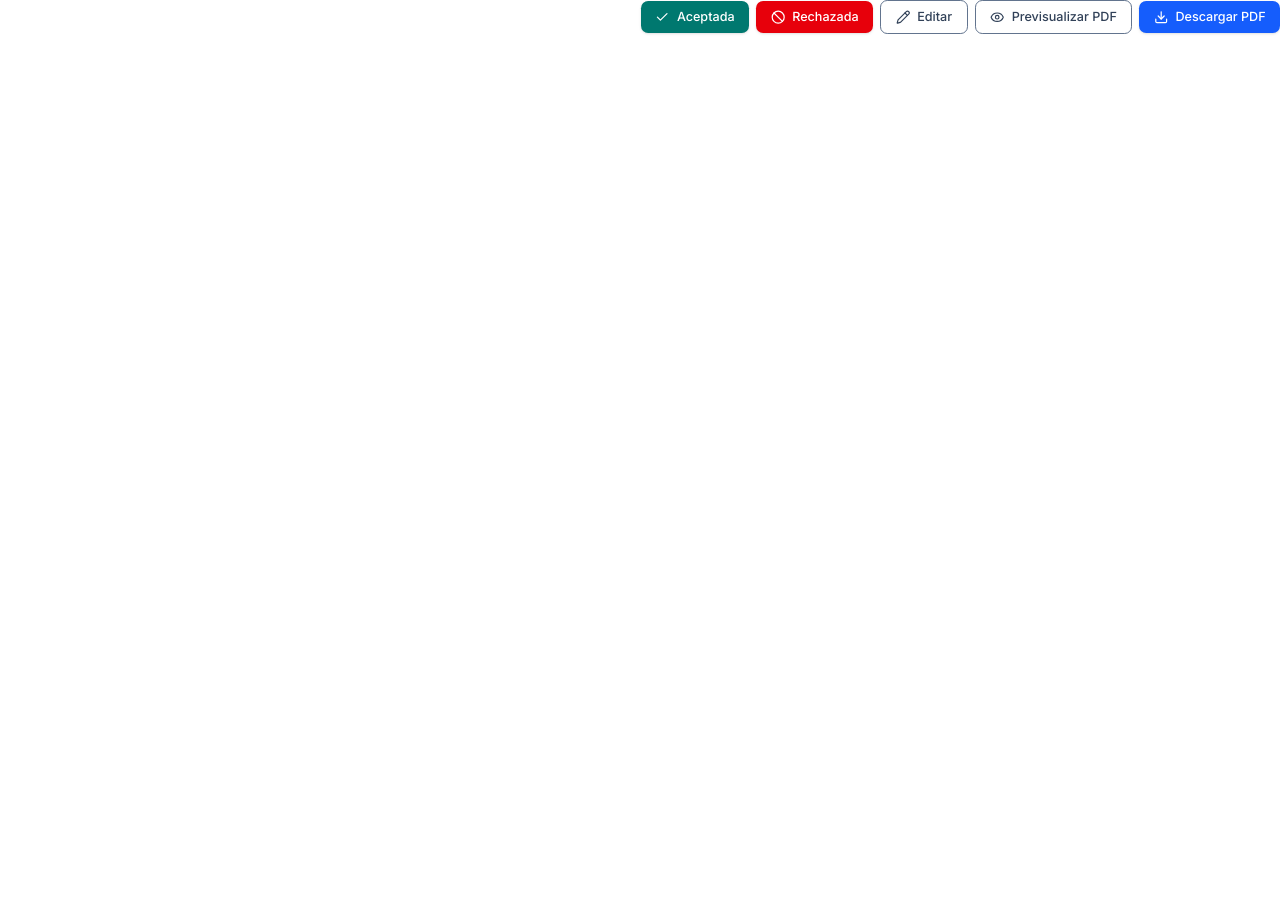
Test case: QuotationDetailActions › SENT: "Rechazada" abre el modal y NO dispara el PATCH directo
The image size is (1280, 900).
Click the button "Rechazada": (815, 17) left=756, top=1, right=873, bottom=33
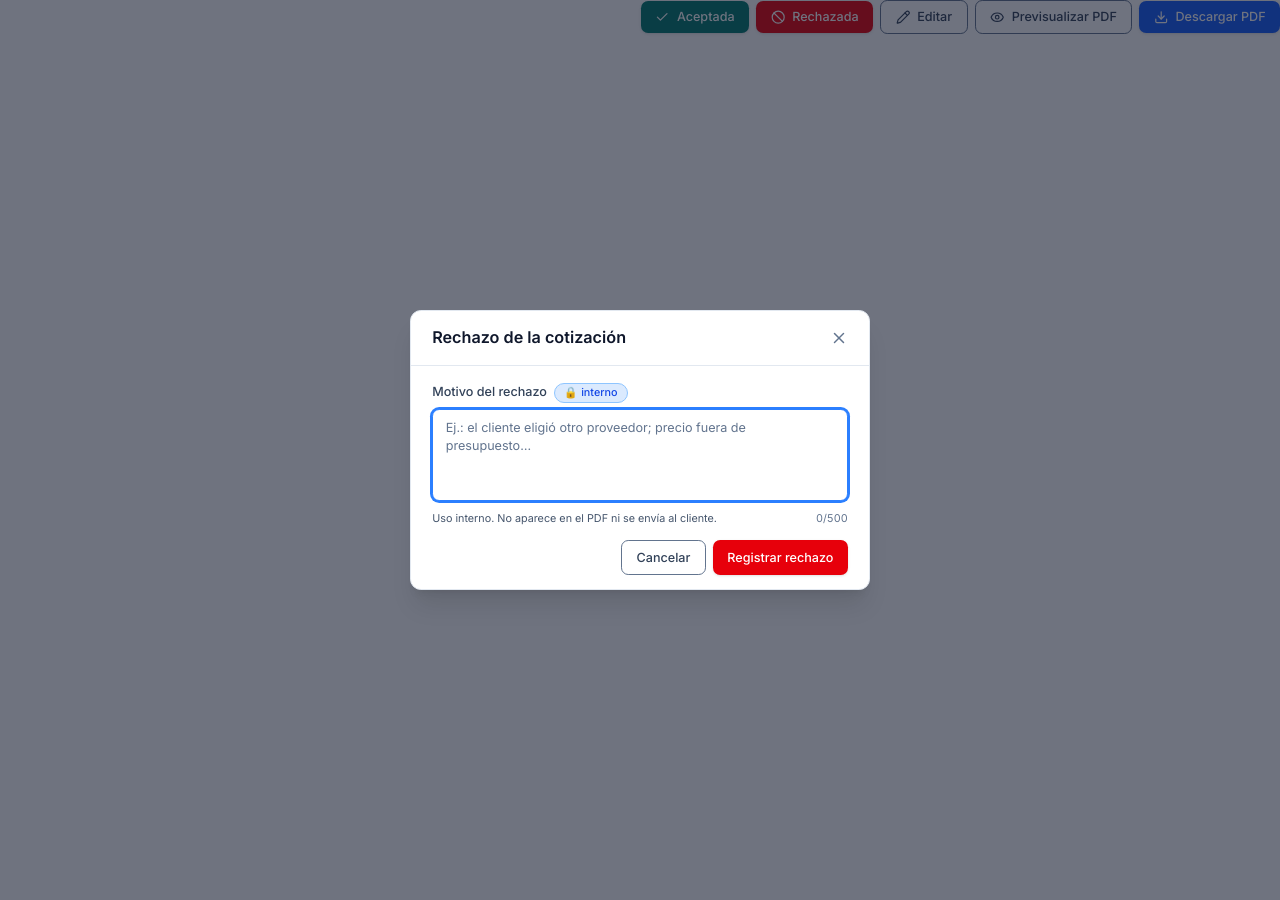
Now the dialog is shown, box left=410, top=310, right=870, bottom=590
Now the text box labelled "Motivo del rechazo" is shown, box left=432, top=409, right=848, bottom=501
